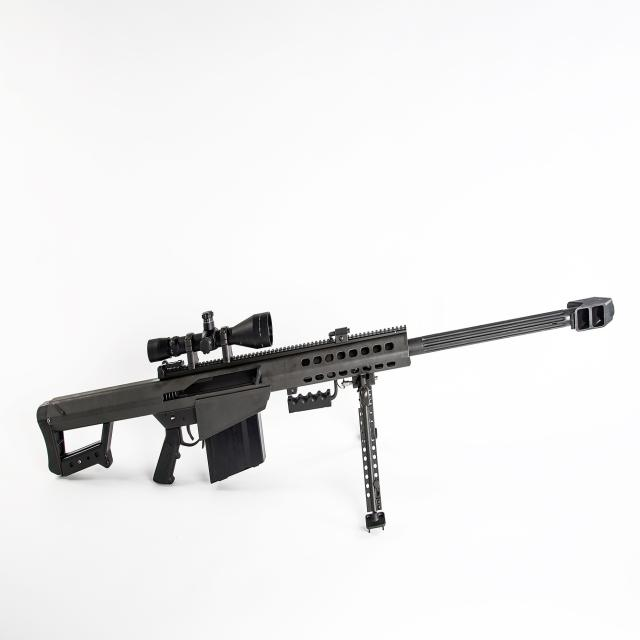Rifle: (36, 297, 617, 488)
